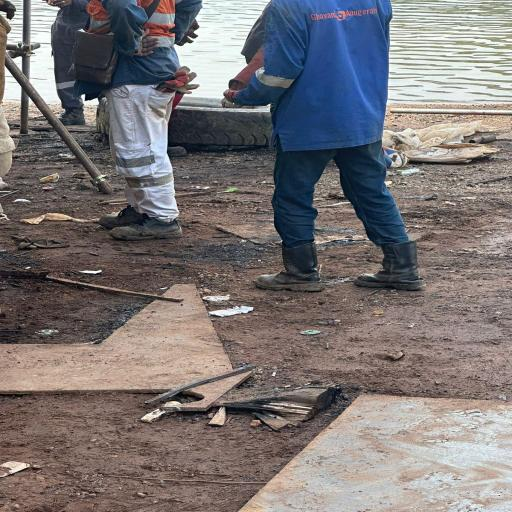safety_shoe: (354, 238, 429, 296), (252, 239, 327, 296), (107, 216, 185, 241), (100, 204, 144, 227), (50, 108, 88, 126)
